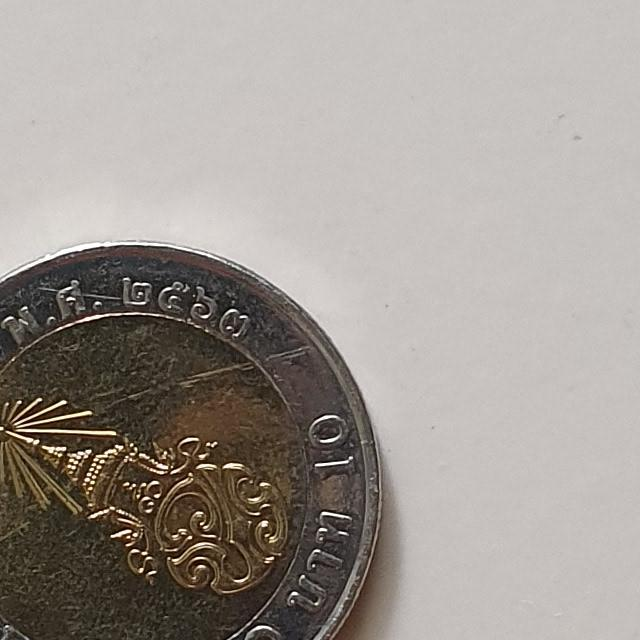10 Bath: (1, 224, 388, 640)
